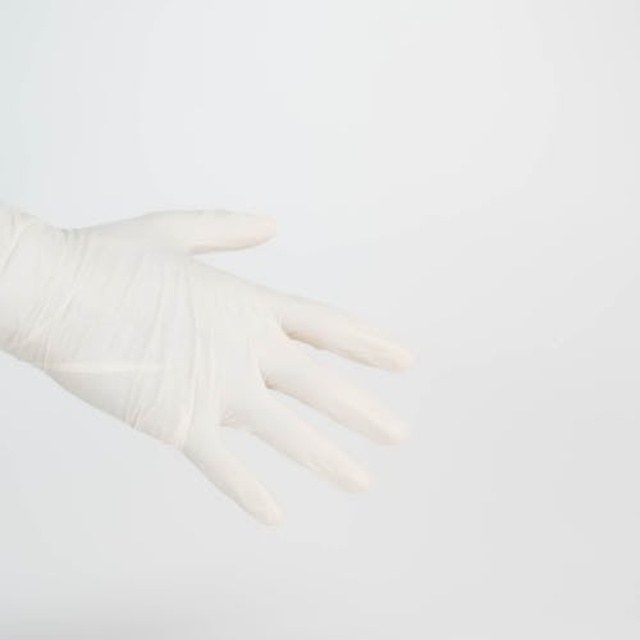Guantes: (0, 193, 418, 526)
